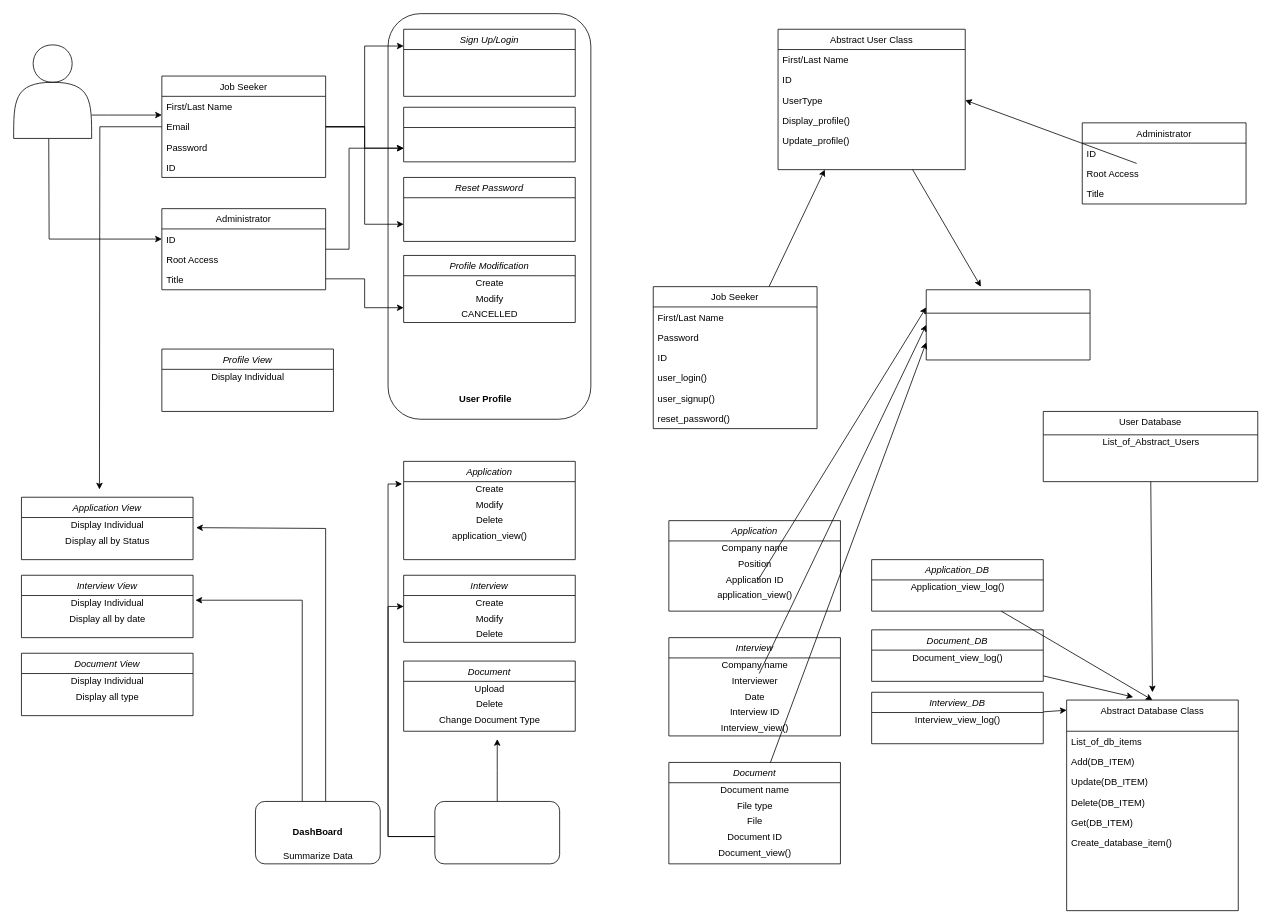
Some shapes in this 1271 by 924 pixel diagram are drawn without their labels. Each missing label, with the centre of its shape:
DataBase: (497,832)
Interface Database Item: (1007,324)
Password Validation: (489,134)
